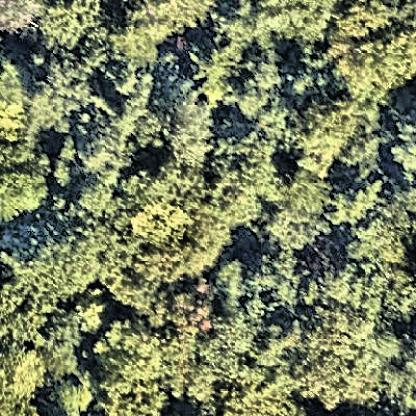tree-top: (294, 310, 392, 412), (91, 323, 173, 416), (8, 227, 106, 304), (118, 167, 201, 245), (316, 265, 416, 327), (338, 23, 415, 100), (293, 98, 370, 172), (208, 138, 276, 217), (26, 56, 93, 132), (106, 242, 174, 316), (248, 1, 347, 45), (73, 114, 139, 177), (165, 91, 217, 170), (348, 211, 410, 271), (97, 51, 158, 110), (260, 201, 323, 257), (35, 3, 111, 49), (253, 251, 307, 313), (3, 156, 50, 224), (134, 1, 225, 35), (1, 344, 49, 405), (194, 45, 244, 103), (168, 278, 219, 334), (328, 178, 383, 226), (1, 62, 32, 143), (67, 290, 114, 340), (72, 175, 122, 220), (45, 374, 97, 416), (389, 120, 416, 181), (1, 1, 48, 32)
